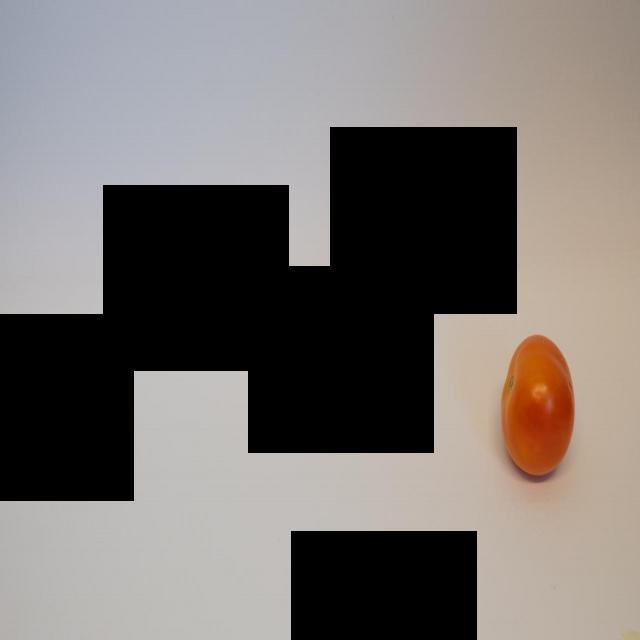tomato: (506, 329, 579, 493)
